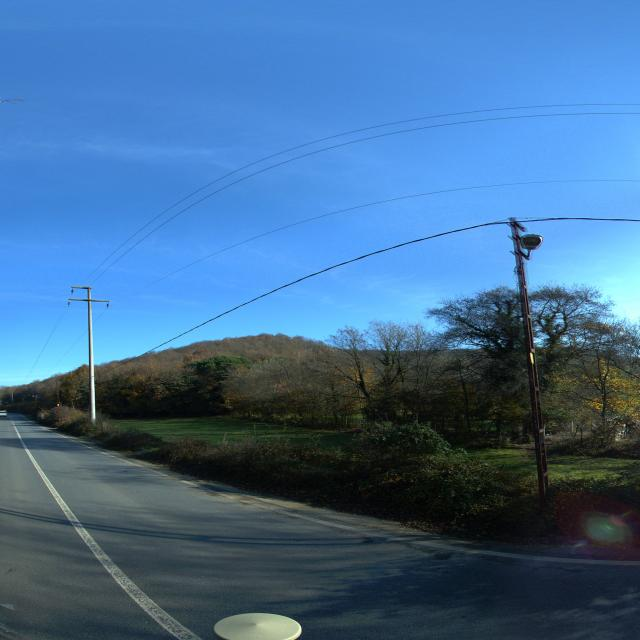Utility Pole Information Plate: (57, 404, 59, 406)
